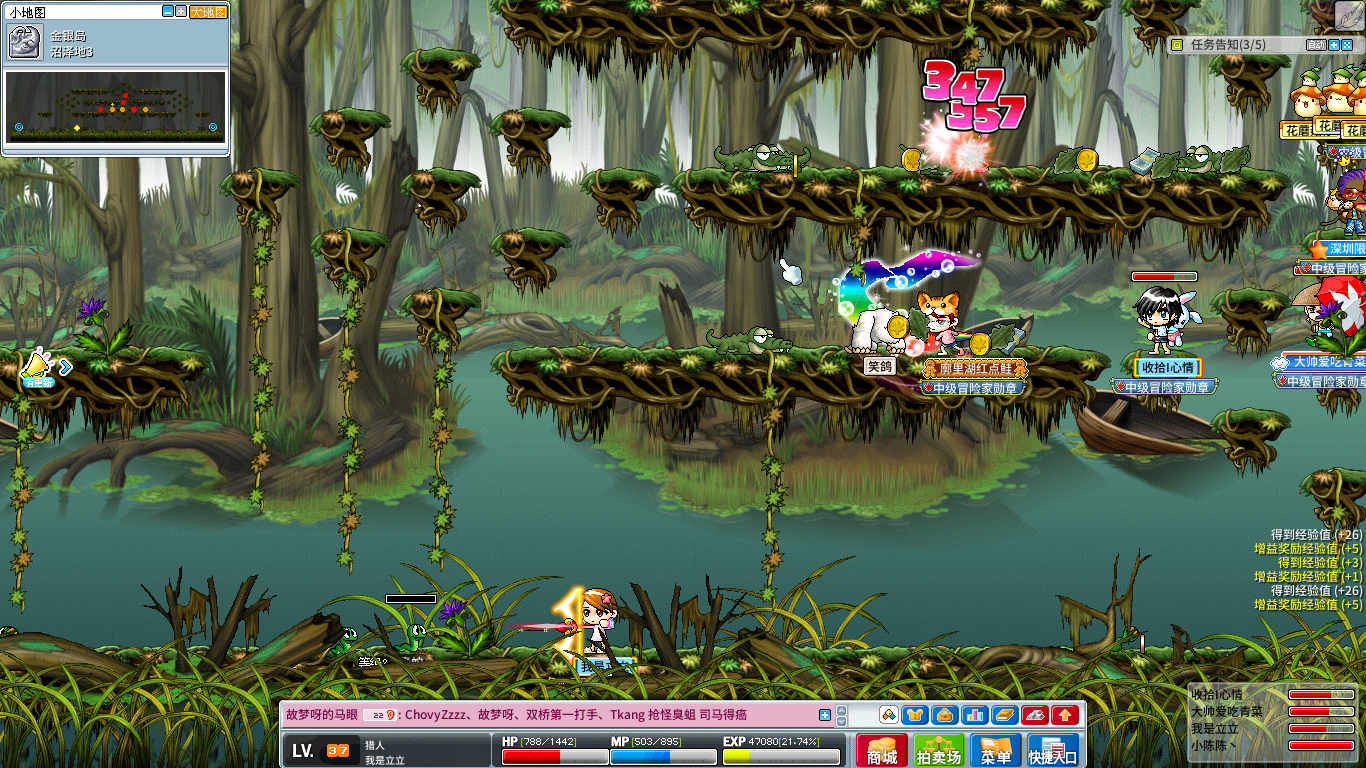monster: (395, 624, 427, 652), (339, 628, 358, 654)
